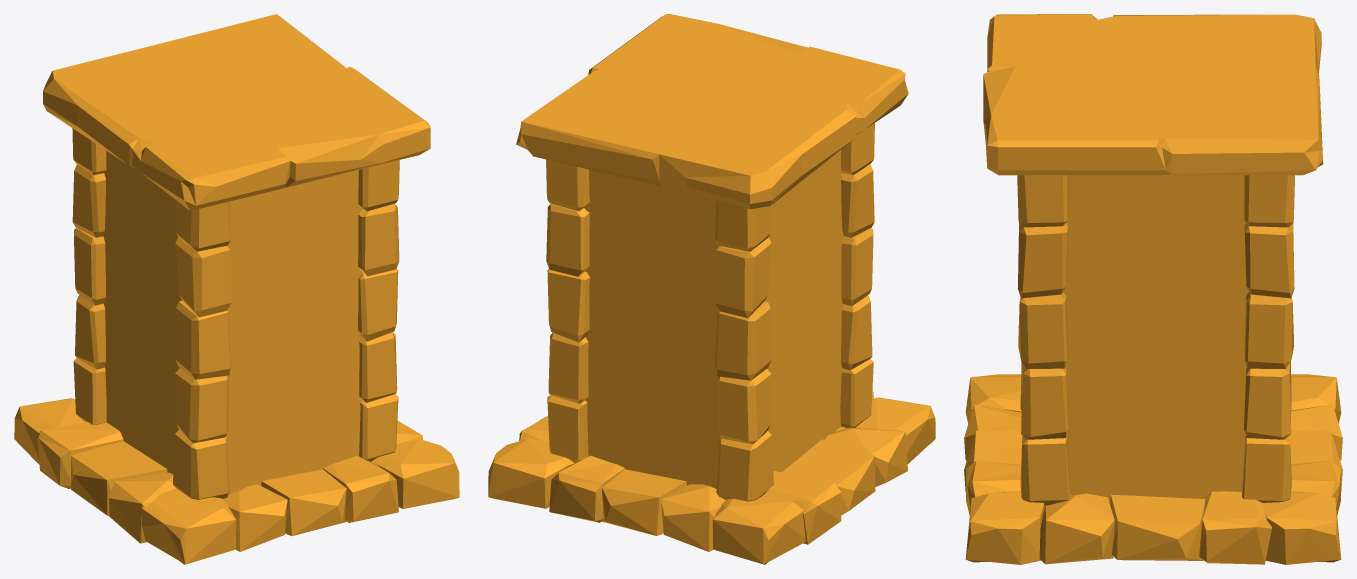
The model's file is SM_Pedestal_Rugged_E_Fantasy.fbx.
The picture shows the model from 3 angles, left to right: view 1: azimuth 30°, elevation 25°; view 2: azimuth 150°, elevation 25°; view 3: azimuth 270°, elevation 25°; orthographic projection. The views are drawn at different scales.
Visible parts, largest first — view 1: SM_Pedestal_Rugged_Fantasy_E; view 2: SM_Pedestal_Rugged_Fantasy_E; view 3: SM_Pedestal_Rugged_Fantasy_E.
Part boxes in pixels (x1,y1,x2,y2): SM_Pedestal_Rugged_Fantasy_E: (14, 14, 459, 564); SM_Pedestal_Rugged_Fantasy_E: (488, 14, 935, 564); SM_Pedestal_Rugged_Fantasy_E: (964, 14, 1342, 564).
Size of the model in its own units: 1 by 1.2 by 1.
